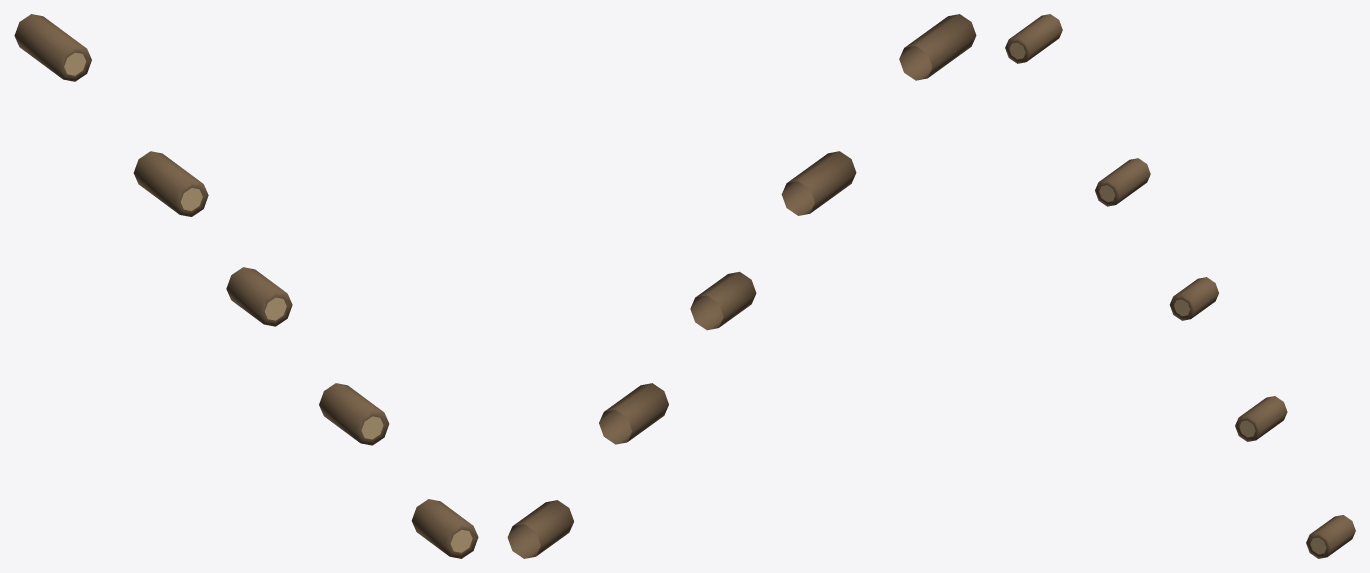
Rendered from rpgpp_ag_roof_support_01_6x5x3_end_01_half_b.fbx.
3 views of the same model, side by side, from view 1: azimuth 30°, elevation 25°; view 2: azimuth 150°, elevation 25°; view 3: azimuth 330°, elevation 25° (orthographic). The views are drawn at different scales.
Visible parts, largest first — view 1: rpgpp_ag_roof_support_01_6x5x3_end_01_half_b; view 2: rpgpp_ag_roof_support_01_6x5x3_end_01_half_b; view 3: rpgpp_ag_roof_support_01_6x5x3_end_01_half_b.
Boxes of the visible parts, x1,y1,x2,y2 form: rpgpp_ag_roof_support_01_6x5x3_end_01_half_b: (14,14,478,558); rpgpp_ag_roof_support_01_6x5x3_end_01_half_b: (507,14,976,558); rpgpp_ag_roof_support_01_6x5x3_end_01_half_b: (1005,14,1355,558).
Bounding box in the file's own units: 3.26 × 4.46 × 0.578.
